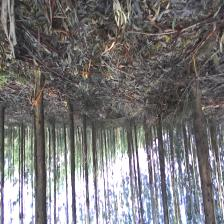trunk: (189, 79, 214, 210), (32, 78, 46, 220), (156, 116, 168, 216), (142, 116, 154, 209), (67, 104, 76, 216), (132, 124, 142, 201), (82, 113, 89, 206), (0, 104, 6, 208), (20, 122, 24, 188)
